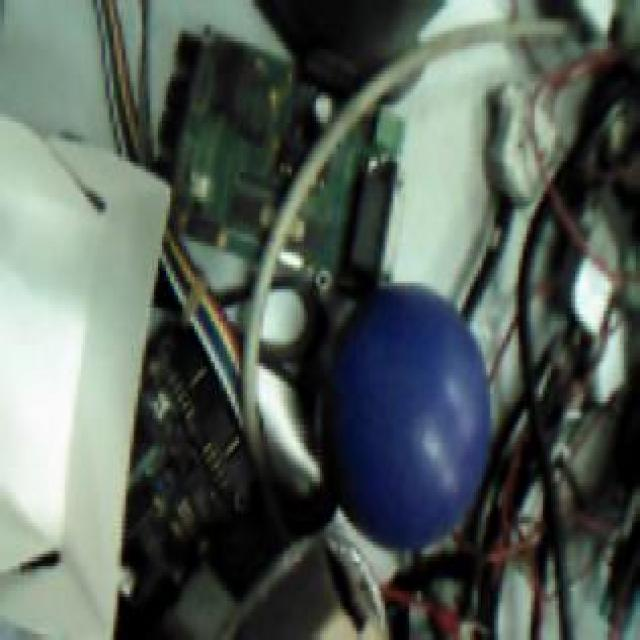BallPurple: (321, 283, 491, 551)
